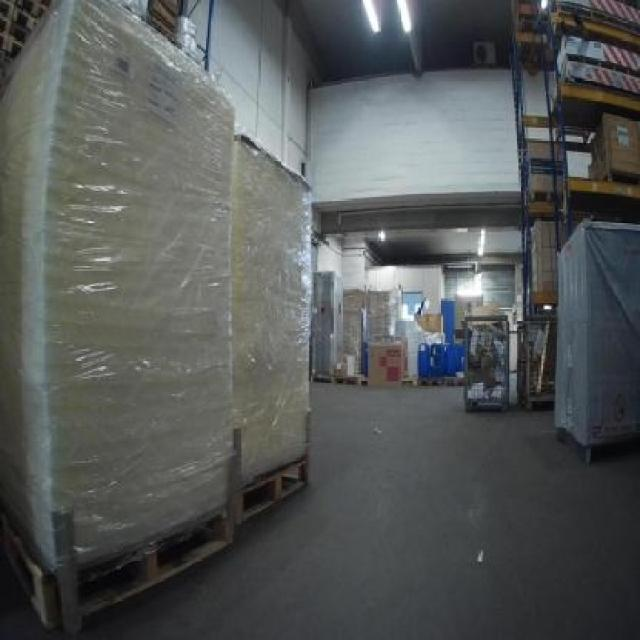floor: (75, 382, 637, 637), (0, 558, 65, 637)
pallets: (0, 0, 312, 628), (554, 220, 637, 457), (463, 315, 506, 408)
